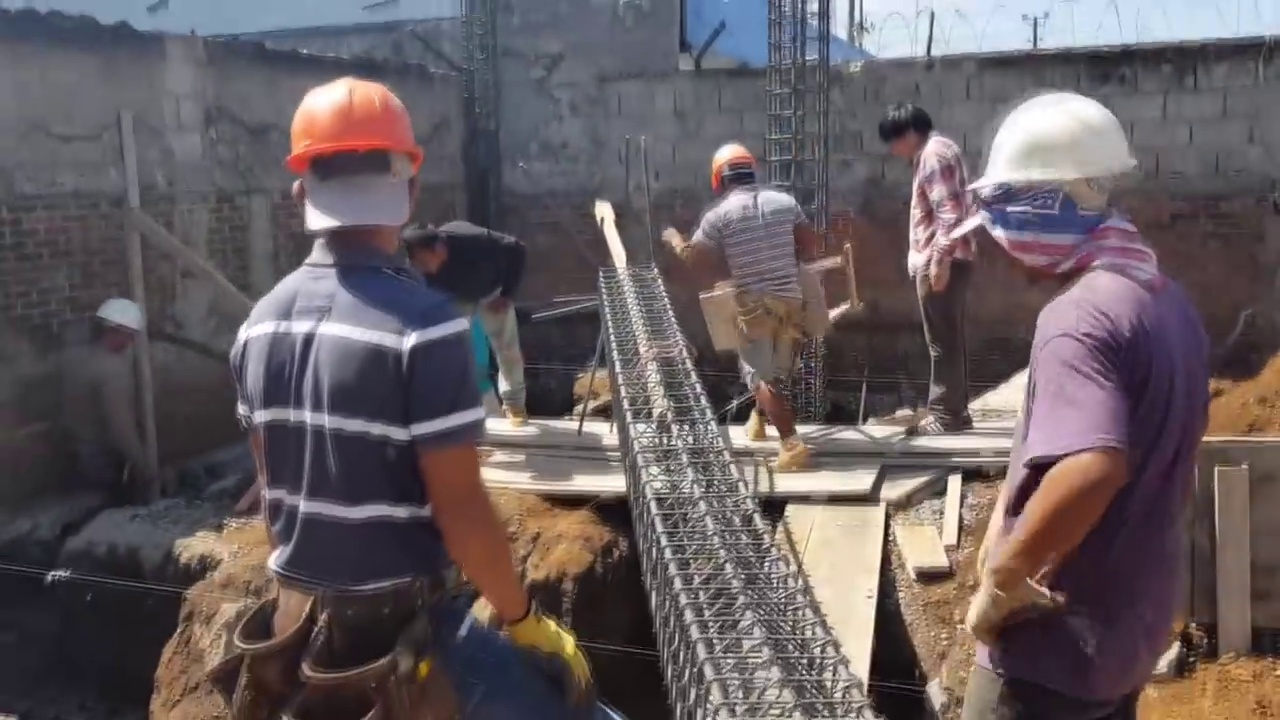helmet: (964, 90, 1136, 189), (284, 72, 424, 186), (91, 297, 141, 353), (709, 141, 755, 188), (92, 297, 142, 334)
helmet-off: (877, 105, 935, 162), (403, 223, 447, 275)
helmet-on: (282, 73, 424, 259), (710, 142, 758, 191)
person: (228, 77, 593, 720), (966, 90, 1210, 720), (661, 141, 815, 467), (874, 106, 967, 437), (403, 220, 532, 425), (65, 297, 150, 499)
